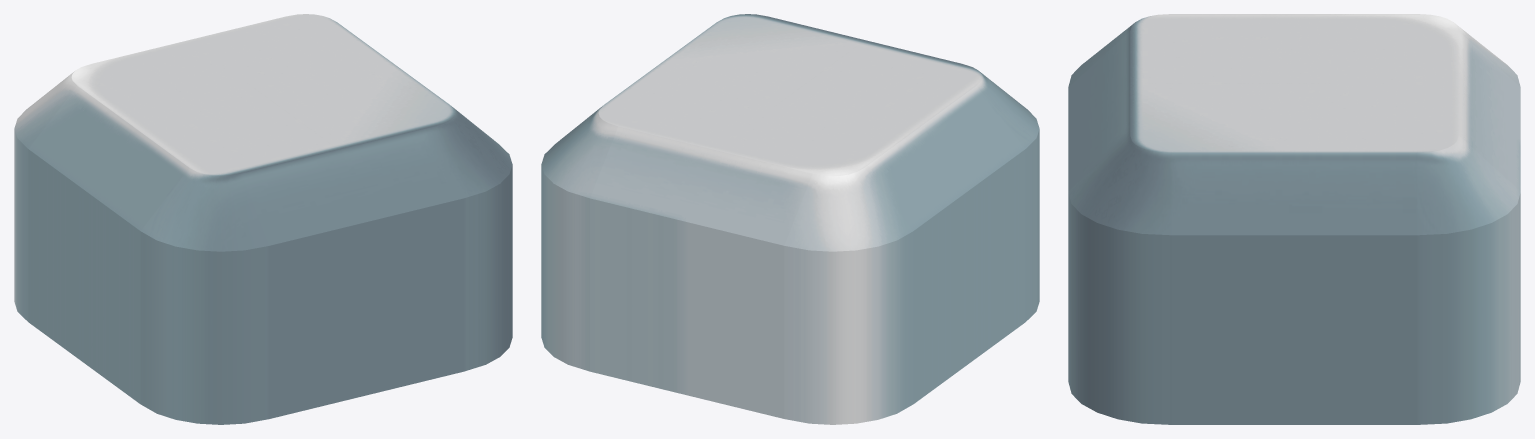
Rendered from Block_1x1_Obstacle.glb.
3 views of the same model, side by side, from view 1: azimuth 30°, elevation 25°; view 2: azimuth 150°, elevation 25°; view 3: azimuth 270°, elevation 25° (orthographic). The views are drawn at different scales.
Parts seen in each view (by area): view 1: Edge_Bottom, FrontFace, Edge_Left, Corner_BottomLeft, Corner_BottomRight, Corner_TopLeft; view 2: Edge_Top, FrontFace, Edge_Left, Corner_TopLeft, Corner_TopRight, Corner_BottomLeft; view 3: Edge_Right, FrontFace, Corner_TopRight, Corner_BottomRight, Edge_Top, Edge_Bottom, Corner_TopLeft, Corner_BottomLeft.
Part boxes in pixels (<box>): Edge_Bottom: <box>241,126,463,418</box>; FrontFace: <box>71,14,455,176</box>; Edge_Left: <box>28,86,189,403</box>; Corner_BottomLeft: <box>140,168,269,424</box>; Corner_BottomRight: <box>436,106,512,371</box>; Corner_TopLeft: <box>14,71,77,321</box>; Edge_Top: <box>590,126,812,418</box>; FrontFace: <box>598,14,982,176</box>; Edge_Left: <box>864,86,1025,403</box>; Corner_TopLeft: <box>784,168,913,424</box>; Corner_TopRight: <box>541,106,617,371</box>; Corner_BottomLeft: <box>976,71,1039,321</box>; Edge_Right: <box>1171,153,1417,424</box>; FrontFace: <box>1130,14,1458,152</box>; Corner_TopRight: <box>1417,135,1520,424</box>; Corner_BottomRight: <box>1068,135,1171,424</box>; Edge_Top: <box>1458,32,1520,190</box>; Edge_Bottom: <box>1068,32,1130,190</box>; Corner_TopLeft: <box>1453,22,1520,86</box>; Corner_BottomLeft: <box>1068,22,1135,86</box>.
Size of the model in its own units: 1 by 0.5995 by 1.
Materials: 1 (1 with a texture image).
